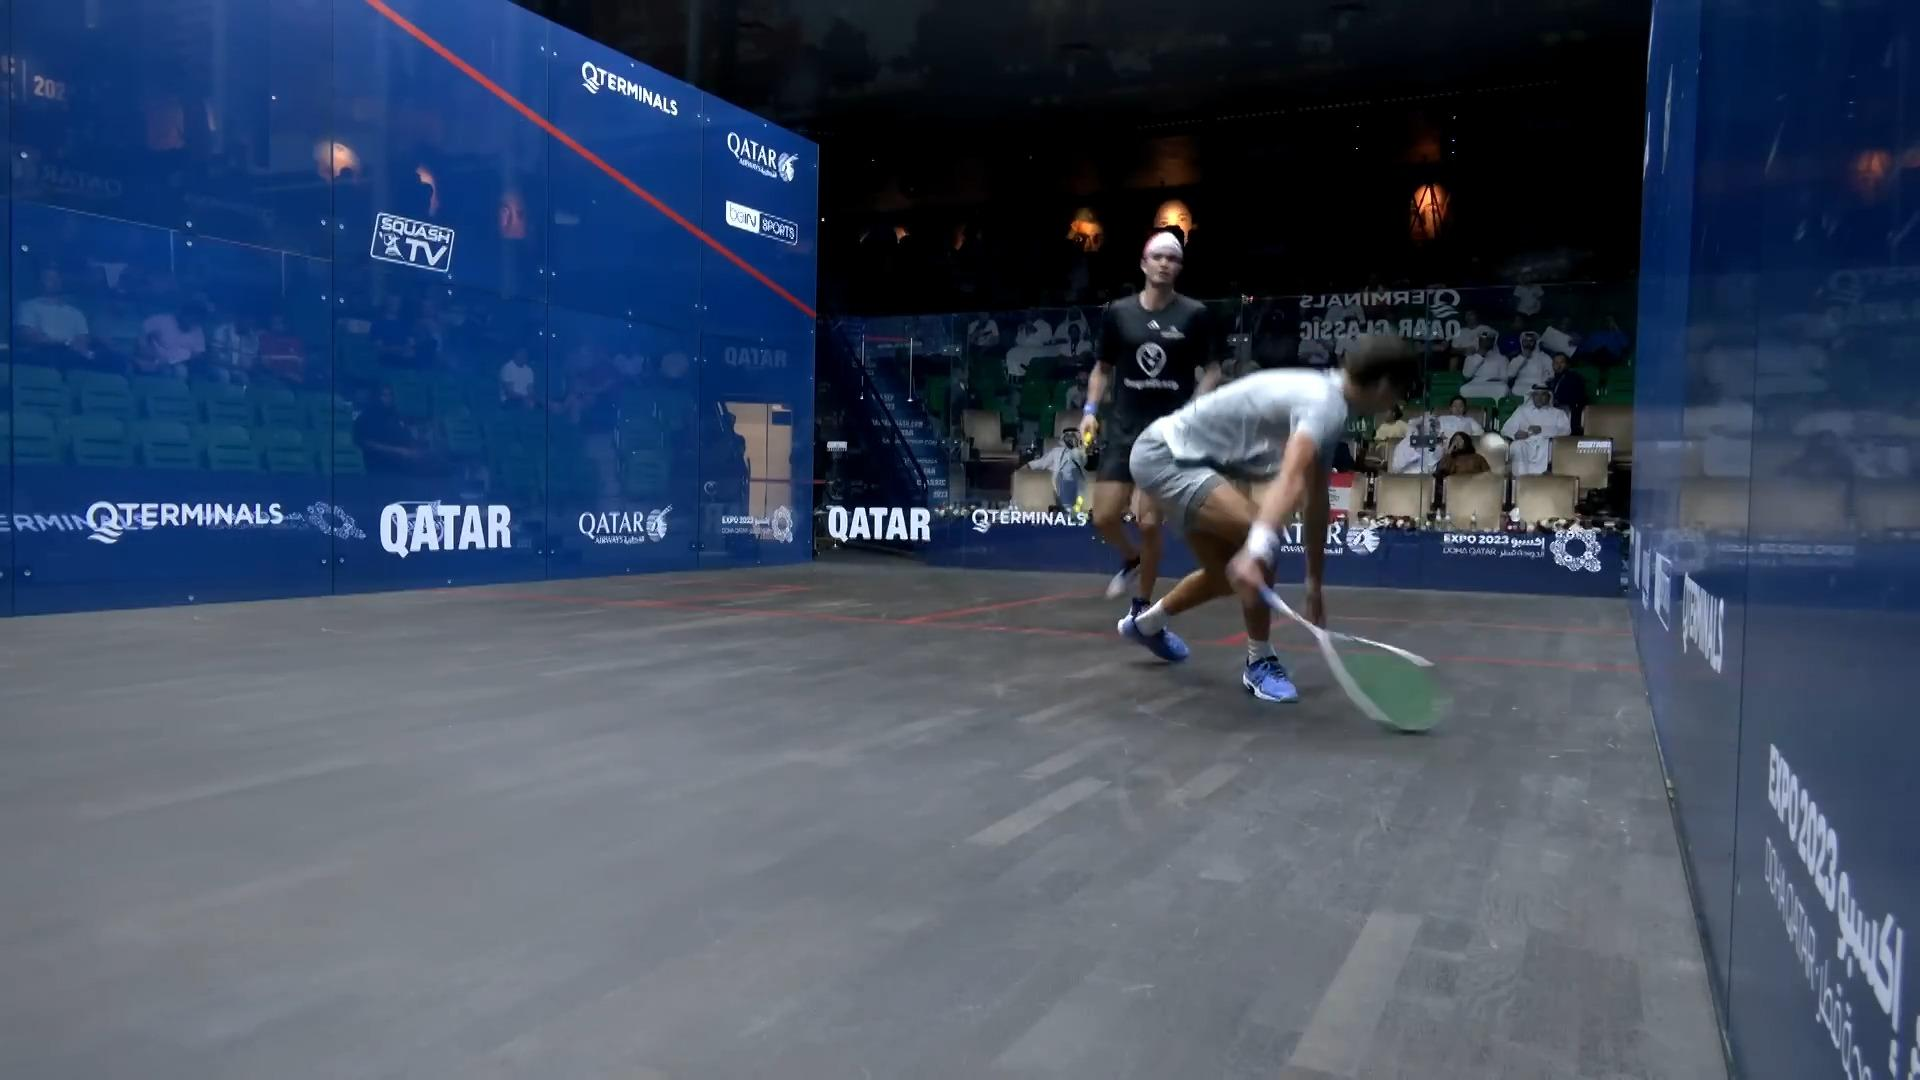Racket: (1257, 579, 1452, 737)
